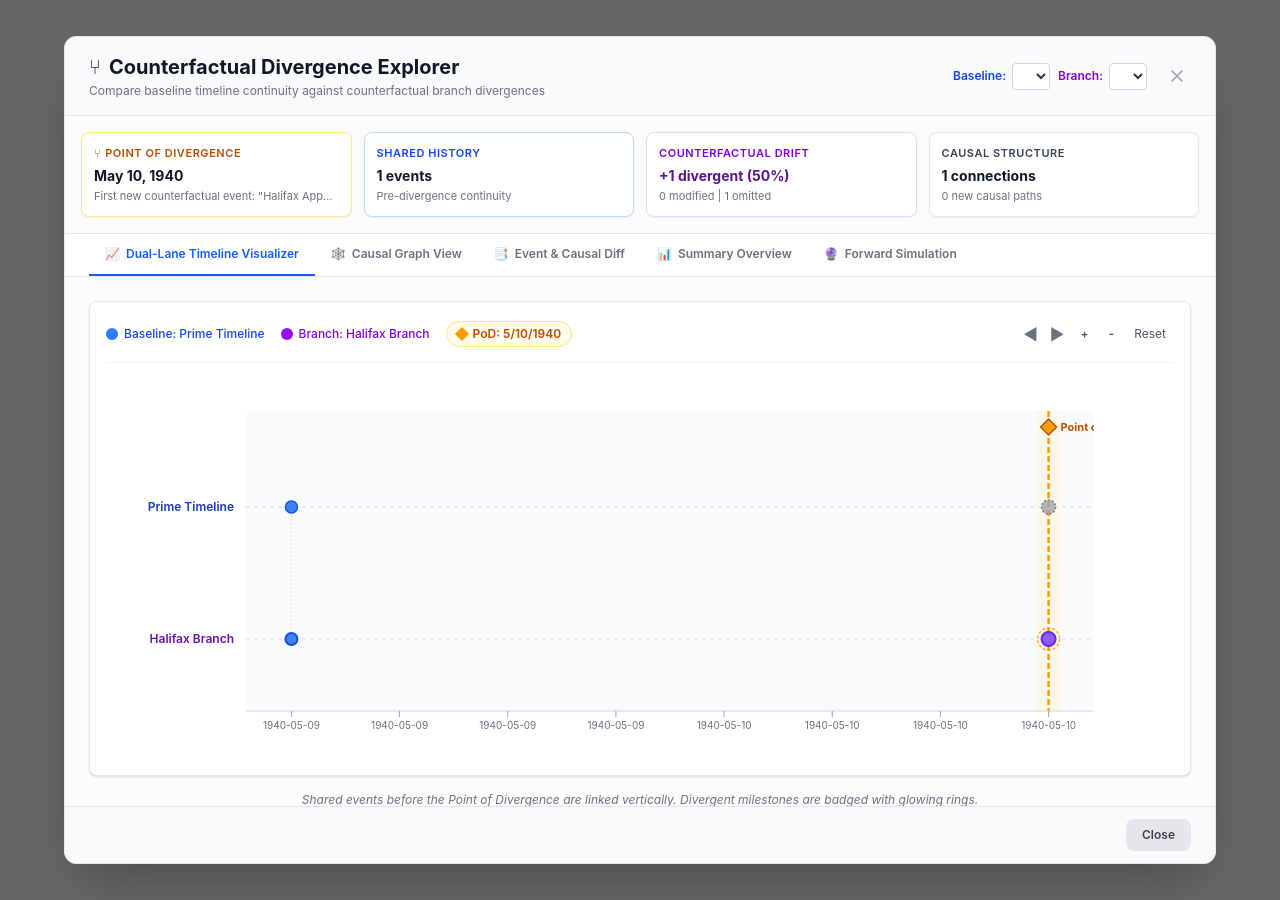
Test: BranchComparisonModal › switches between views using tabs
Expected: the button "📈 Dual-Lane Timeline Visualizer" is shown, [89,234,315,276]
# Switch to Event & Causal Diff tab
Click the button "📑 Event & Causal Diff".
click(559, 255)  # box [478,234,641,276]
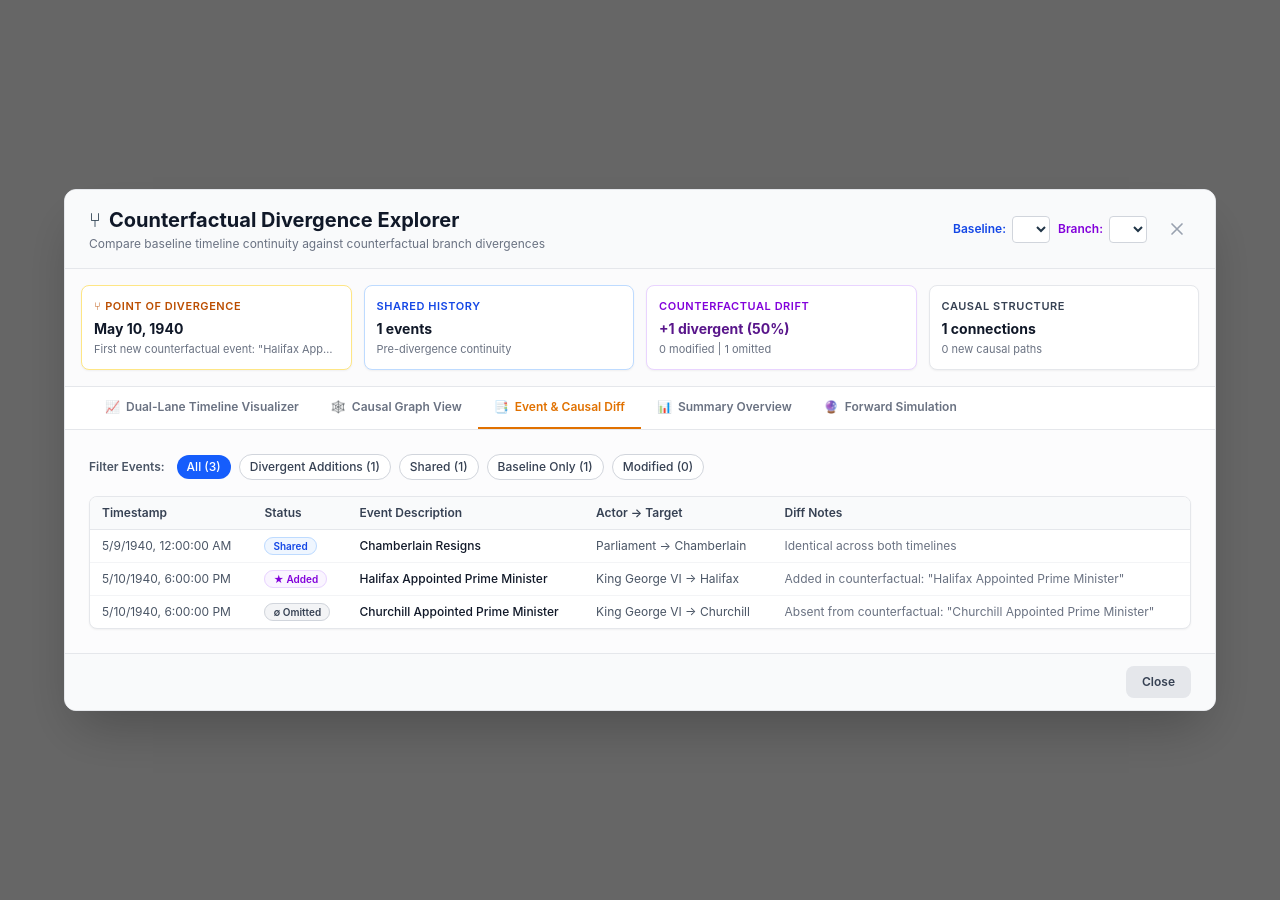
Expected: the text "Filter Events:" is shown, [89,459,165,475]
Expected: the text "Halifax Appointed Prime Minister" is shown, [348,562,584,596]
Expected: the text "Chamberlain Resigns" is shown, [348,530,584,562]
# Switch to Summary tab
Click the button "📊 Summary Overview".
click(724, 408)  # box [641,387,808,429]
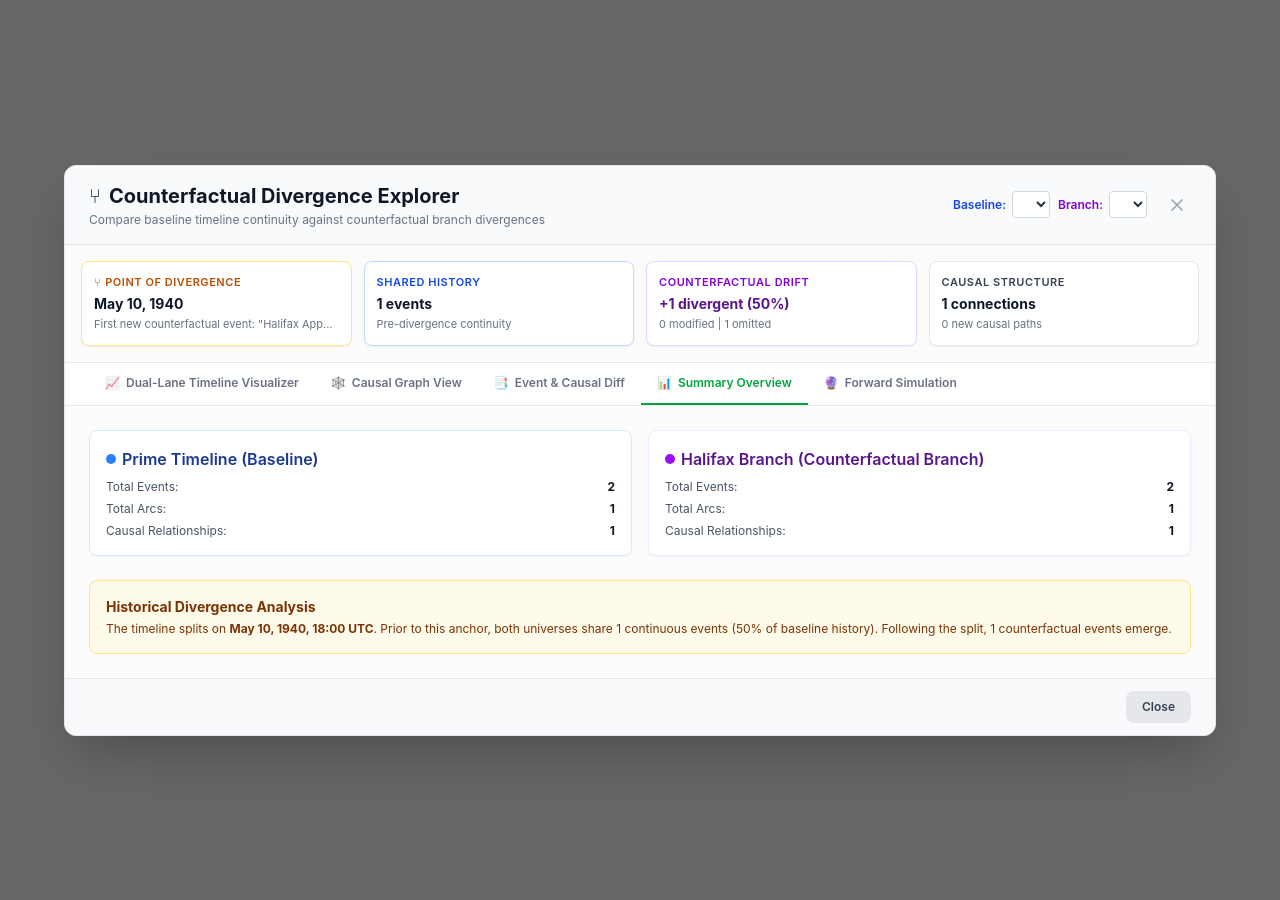
Expected: the text "Historical Divergence Analysis" is shown, [106,598,316,614]
Expected: the text "Total Events:" is shown 2 times, [106,478,178,494]; [665,478,737,494]
